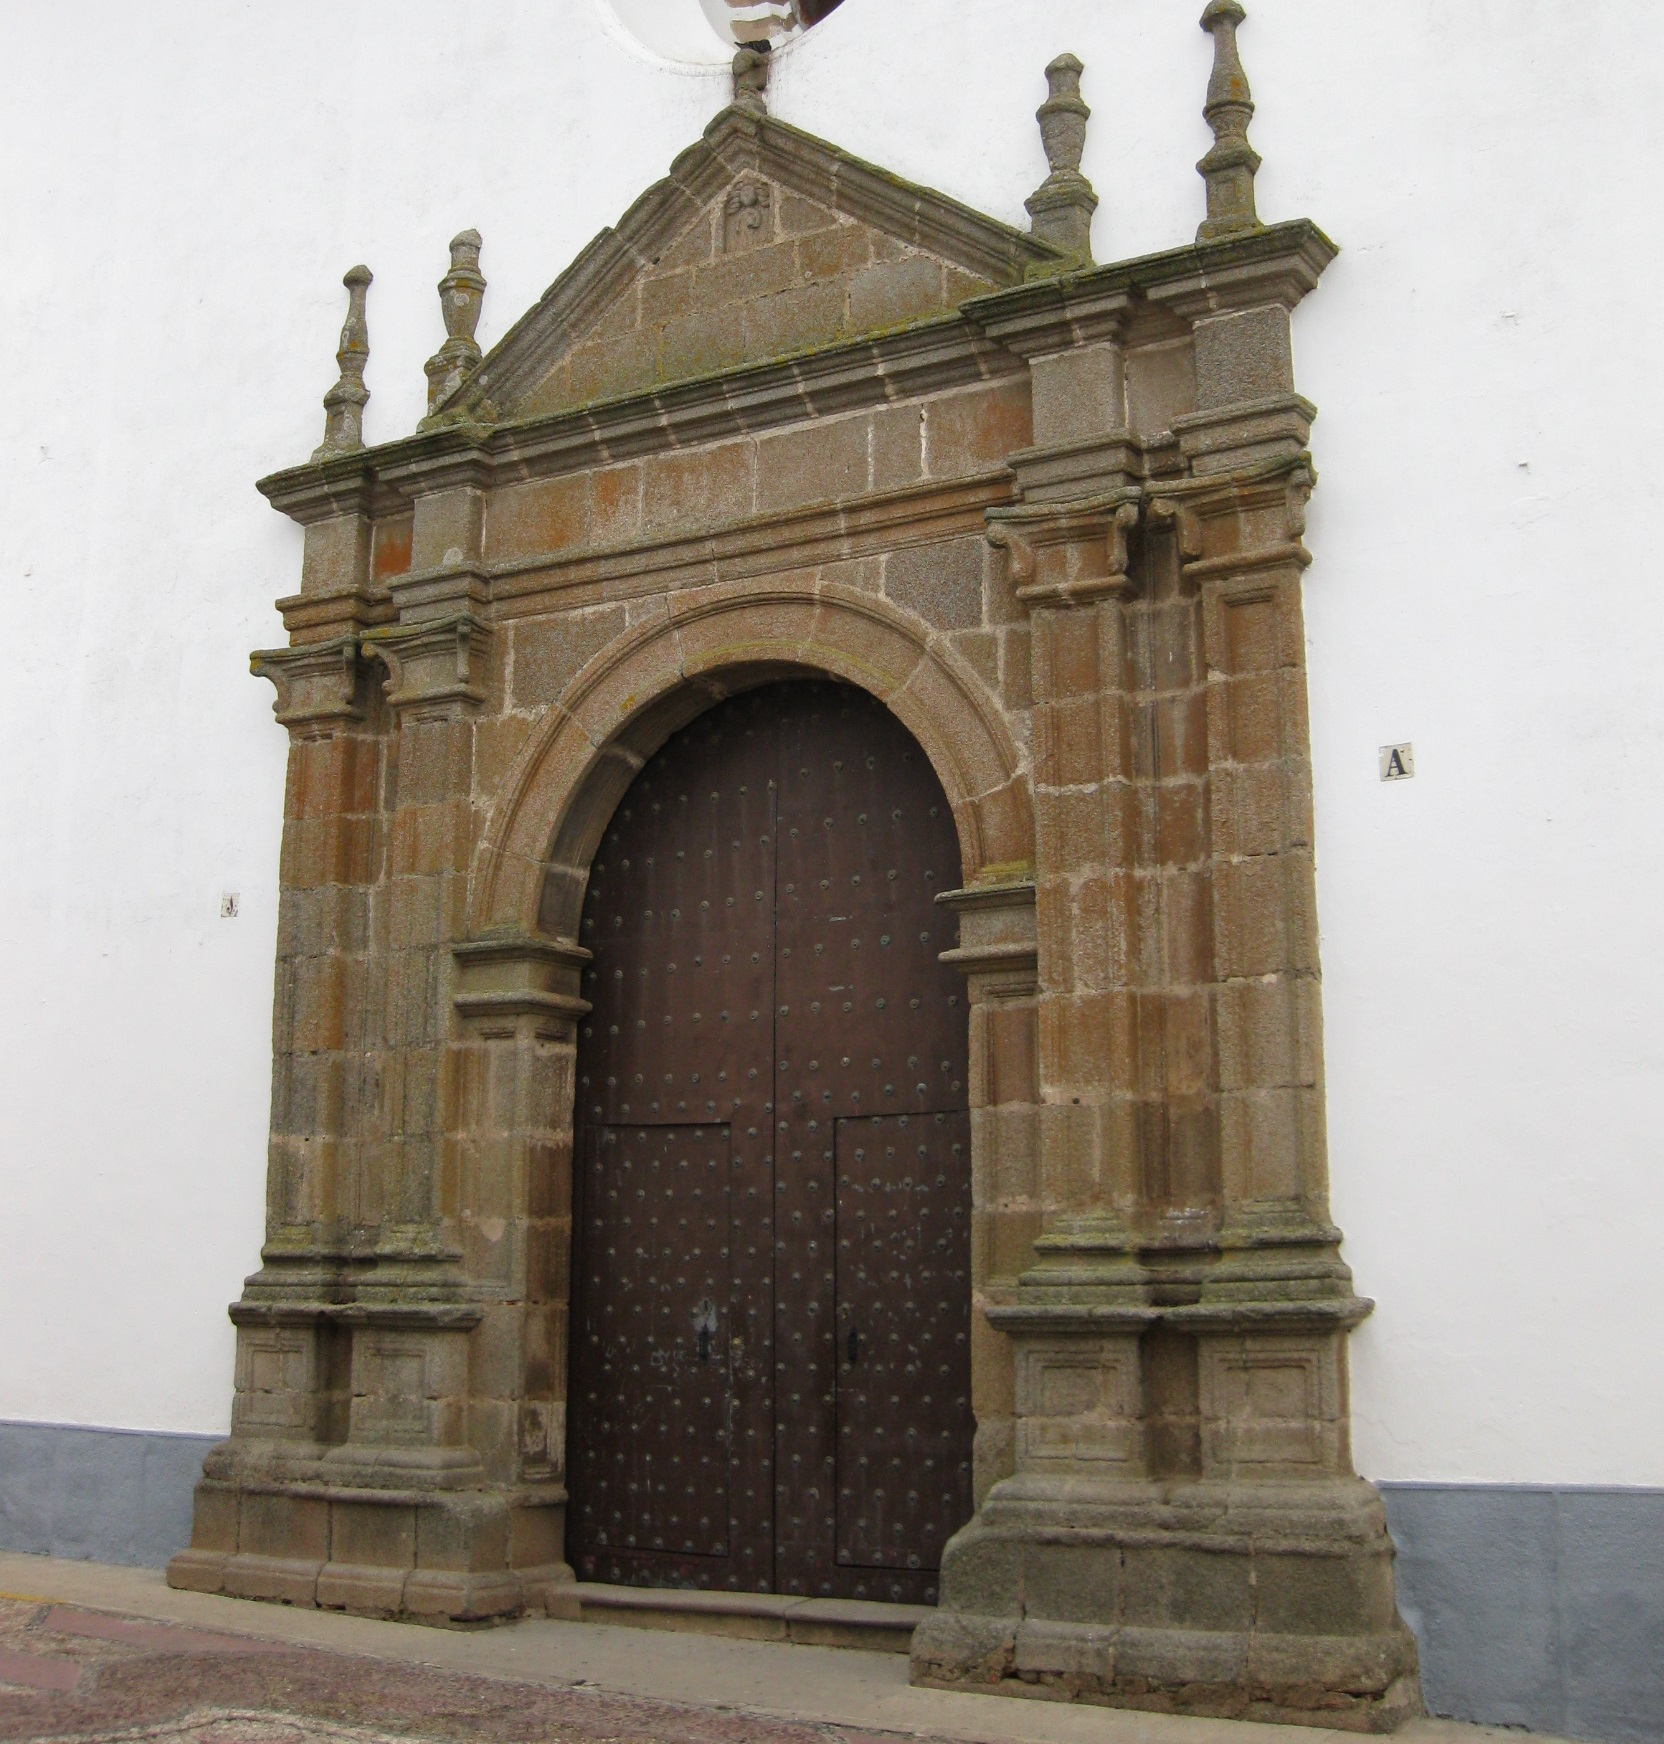arco-medio-punto: (511, 643, 1001, 1025)
fronton: (423, 98, 1076, 466)
